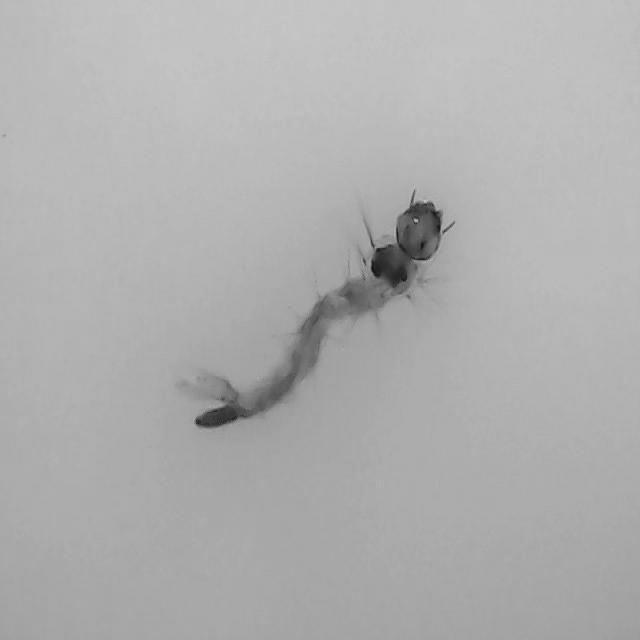larvas: (196, 202, 446, 428)
